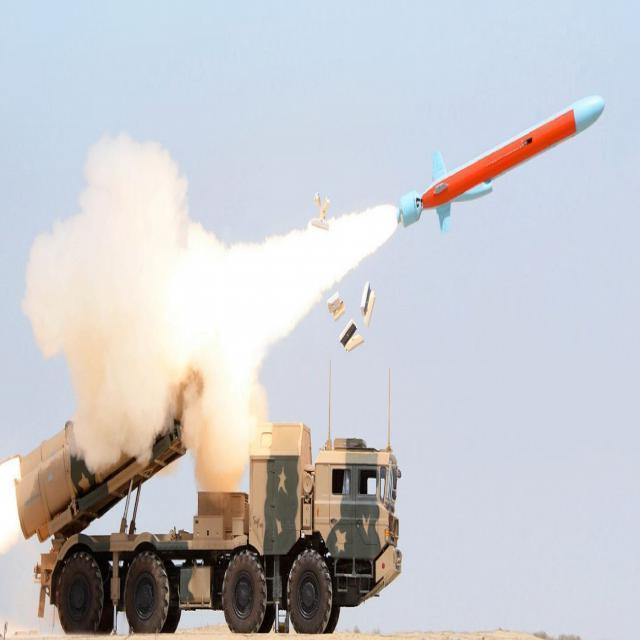missile: (392, 90, 612, 229)
